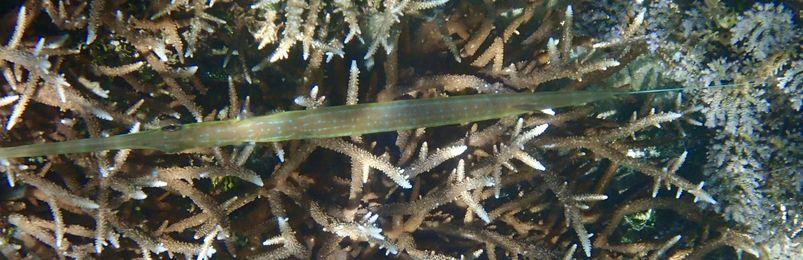Fistularia commersonii: (0, 89, 720, 172)
